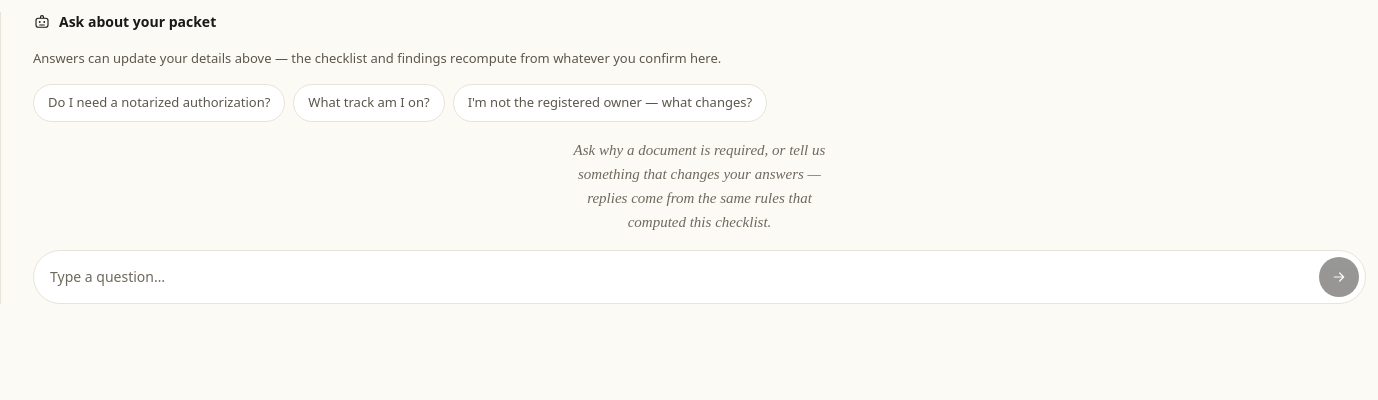
Test: PermitChatSidebar › hides the suggested prompts once the homeowner sends a message
expect the button "What track am I on?" is shown: met, box [293,84,445,122]
Type "What track am I on?" into the field with placeholder "Type a question…". click: (680,276)
box: [50,266,1311,286]
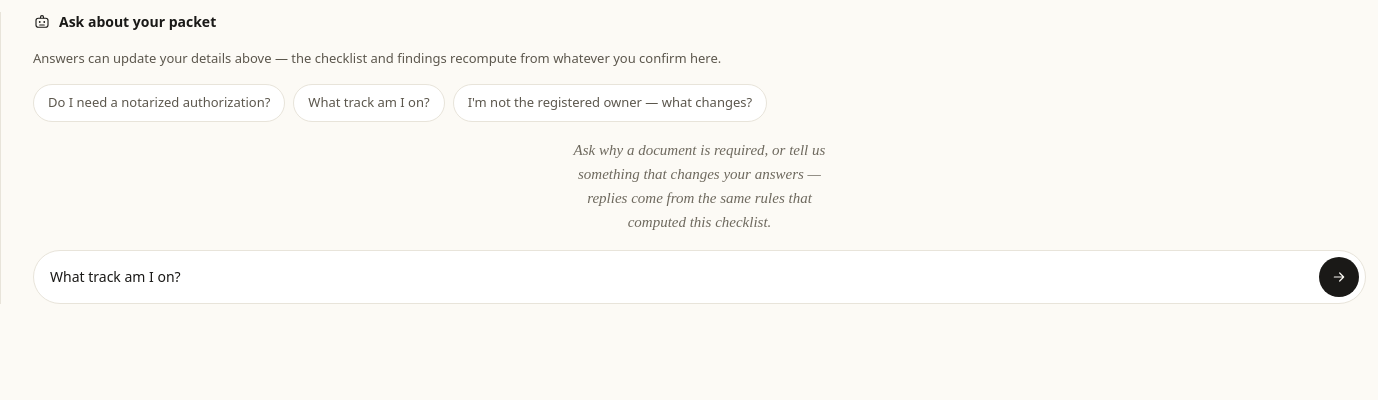
Click the button named "Send question". click: (1339,276)
box: [1319,256,1359,296]
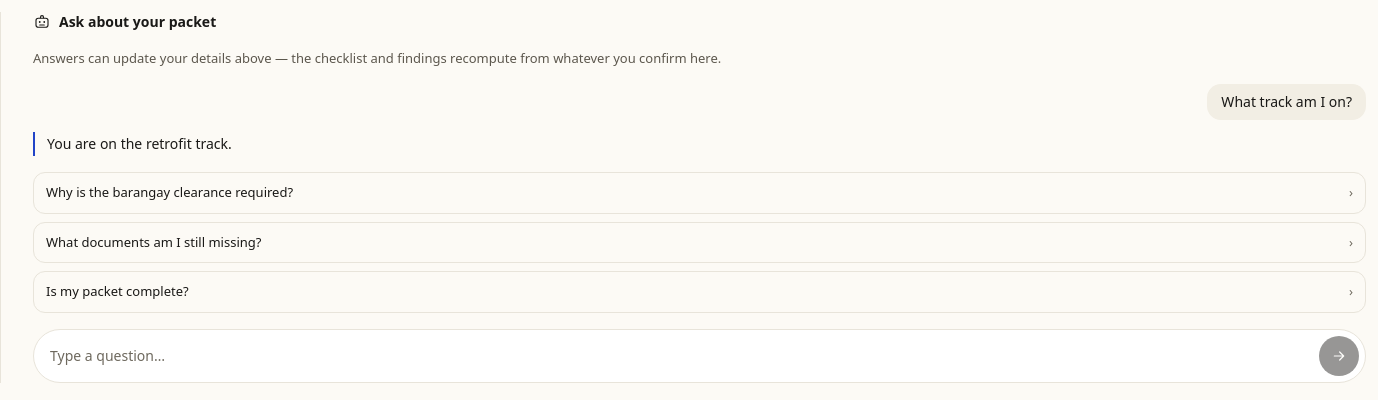
expect the text "You are on the retrofit track." is shown: met, box [33,132,1366,156]
expect the button "Do I need a notarized authorization?" is gone: met
